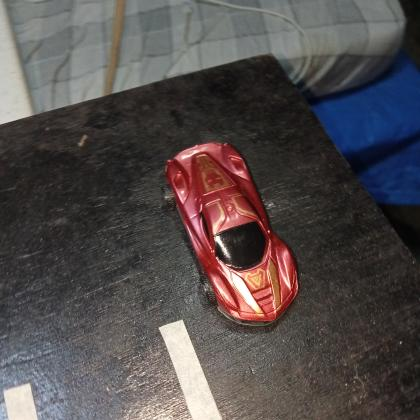Car: (160, 139, 300, 328)
